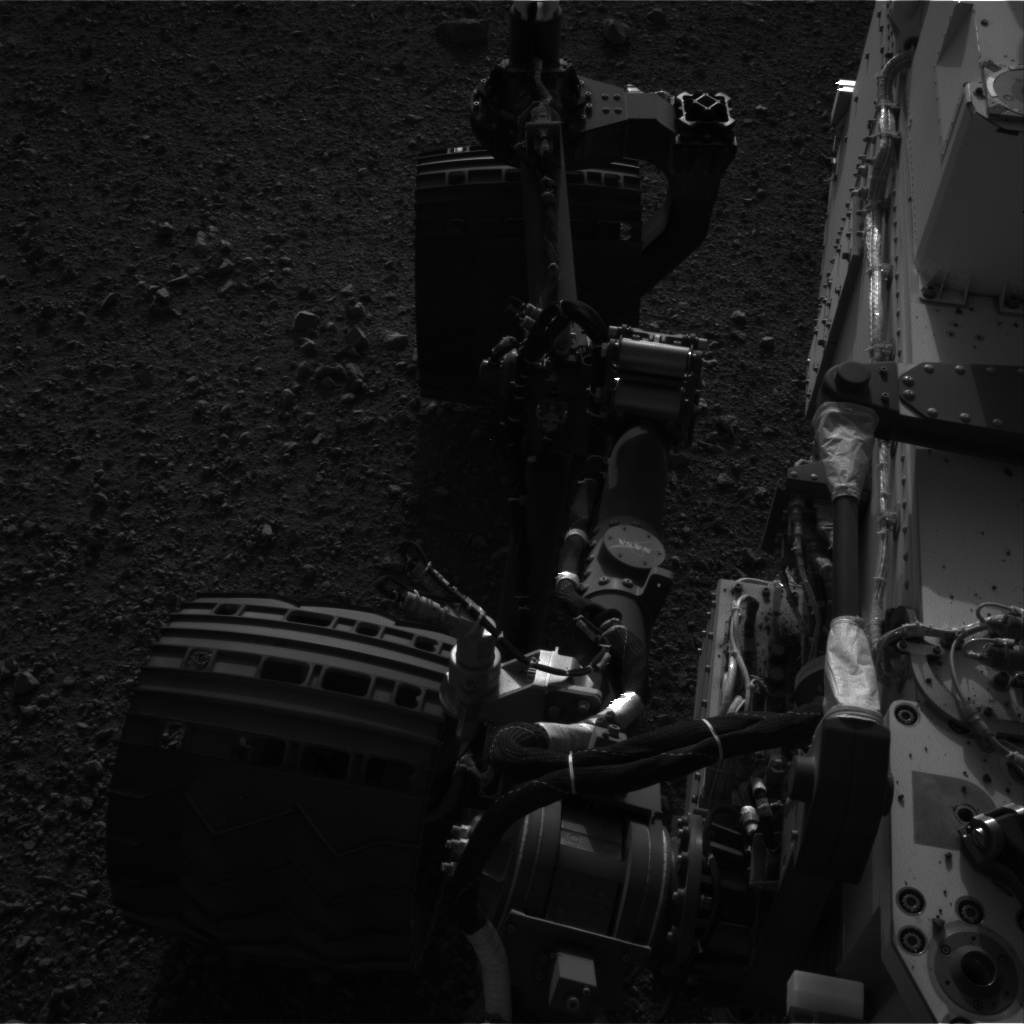soil: (3, 7, 417, 1015)
